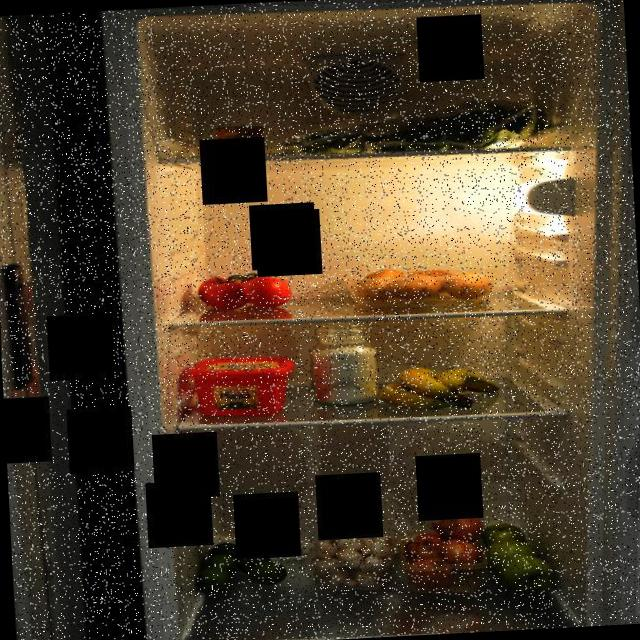Cebolla: (396, 509, 492, 596)
Champiñones: (311, 520, 390, 594)
Mantequilla: (183, 352, 300, 420)
Manzana: (478, 518, 558, 596)
Patata: (331, 258, 504, 314)
Plátano: (378, 362, 501, 414)
Tomate: (196, 269, 296, 312)
